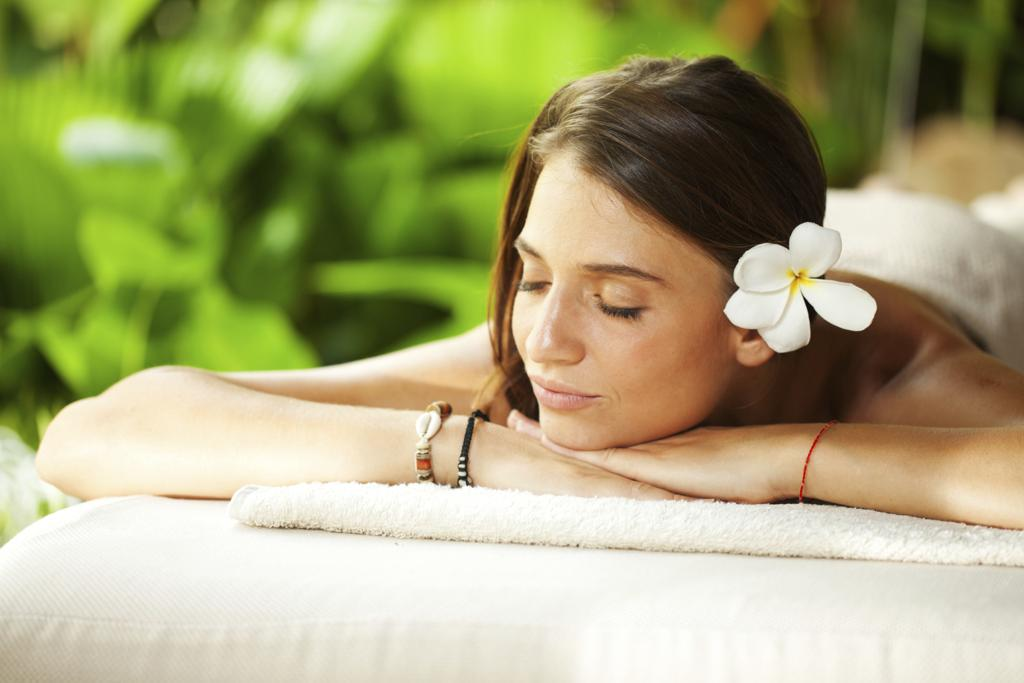face: (510, 204, 698, 452)
